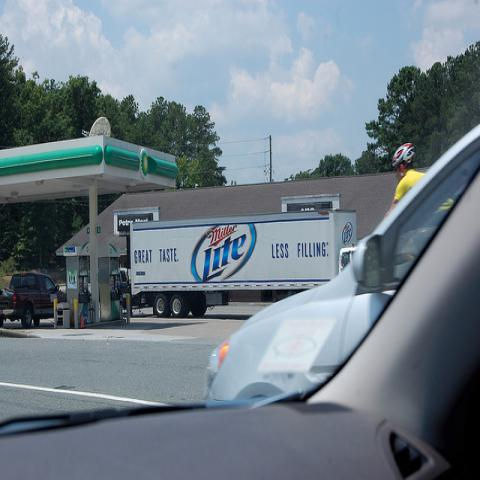car: (203, 123, 480, 479), (0, 286, 17, 329), (119, 268, 128, 286)
truck: (128, 209, 358, 319), (0, 273, 67, 327)
